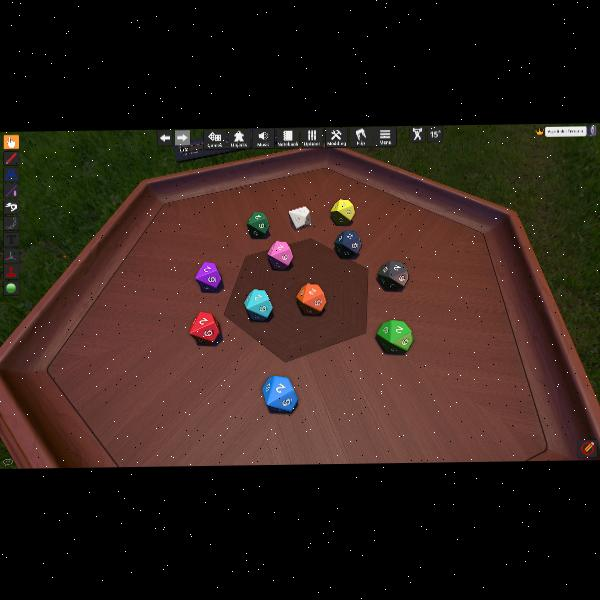d10: (262, 375, 298, 413), (376, 319, 410, 353), (296, 282, 326, 315), (190, 311, 220, 343), (377, 259, 407, 289), (244, 289, 272, 321), (194, 261, 222, 291), (334, 230, 360, 258), (268, 239, 292, 269), (330, 198, 354, 226), (246, 211, 270, 237), (288, 205, 310, 228)
